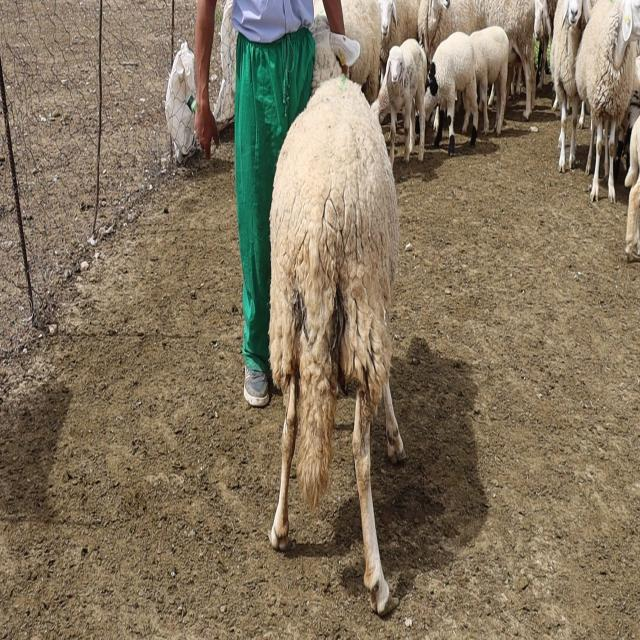Score_3: (268, 13, 405, 615)
